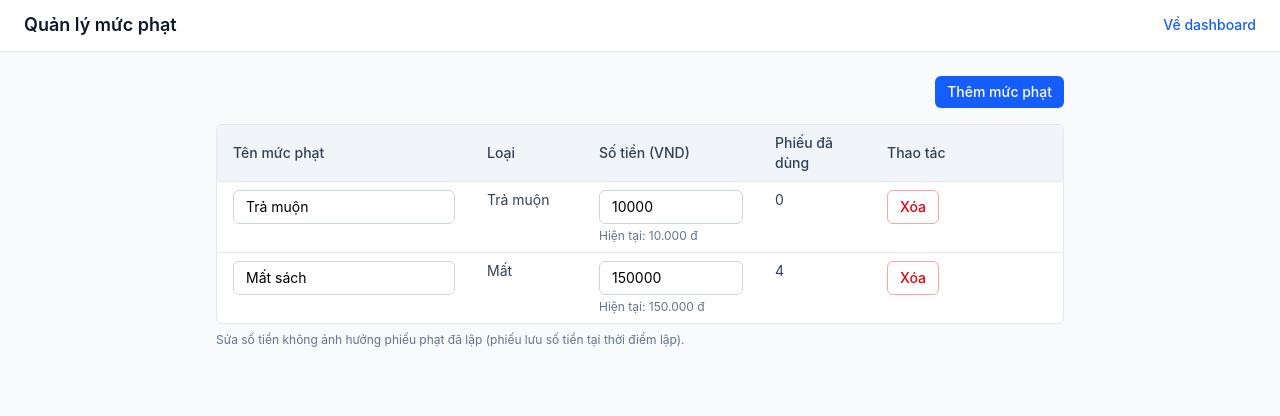
Scenario: FineTiersPage (2.5.1) › sửa trên bảng: Lưu chỉ hiện khi đổi, gửi updatedAt, cập nhật dòng
The image size is (1280, 416).
Clear the field named "Số tiền Trả muộn" at point(671, 207), box [599,190,743,224]
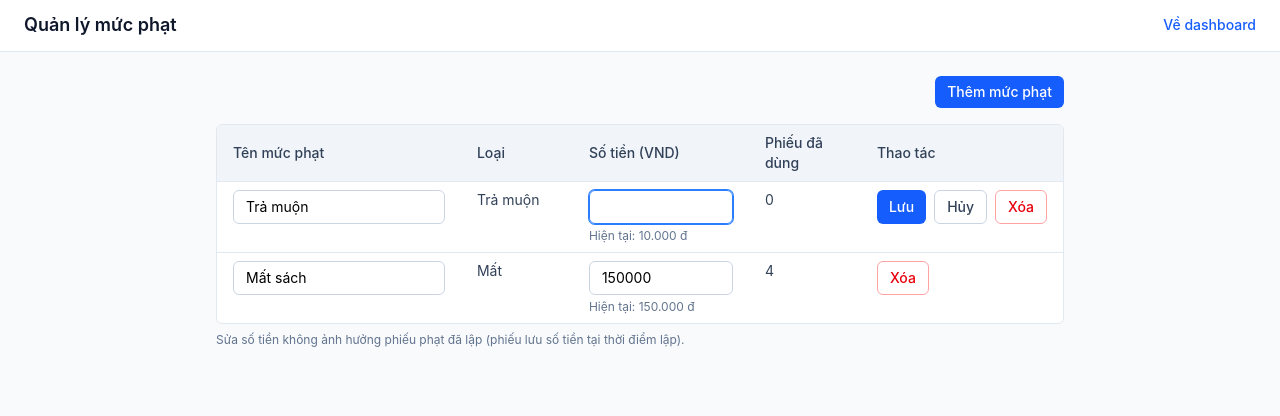
Type "20000" into the field named "Số tiền Trả muộn" at point(661, 207), box [589,190,733,224]
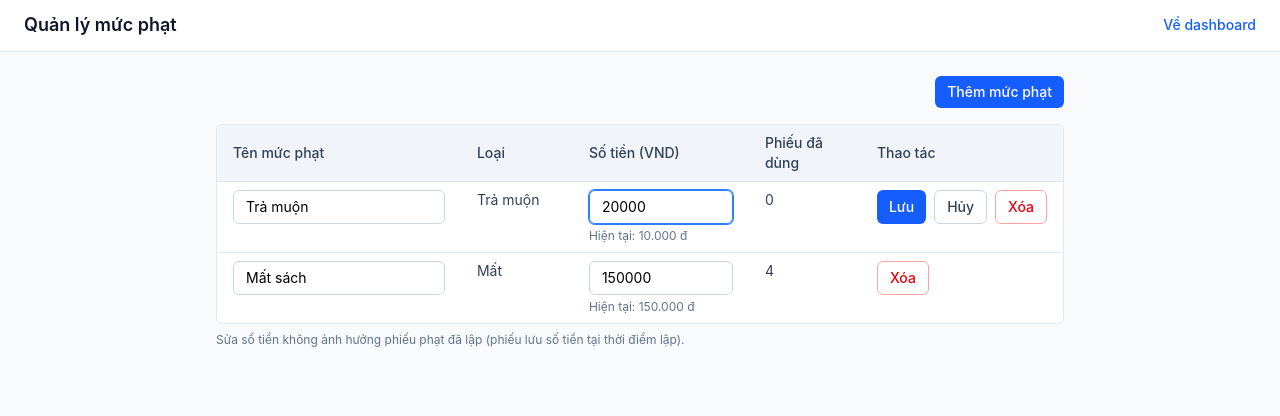
Click the button "Lưu" at point(902, 207), box [877,190,926,224]
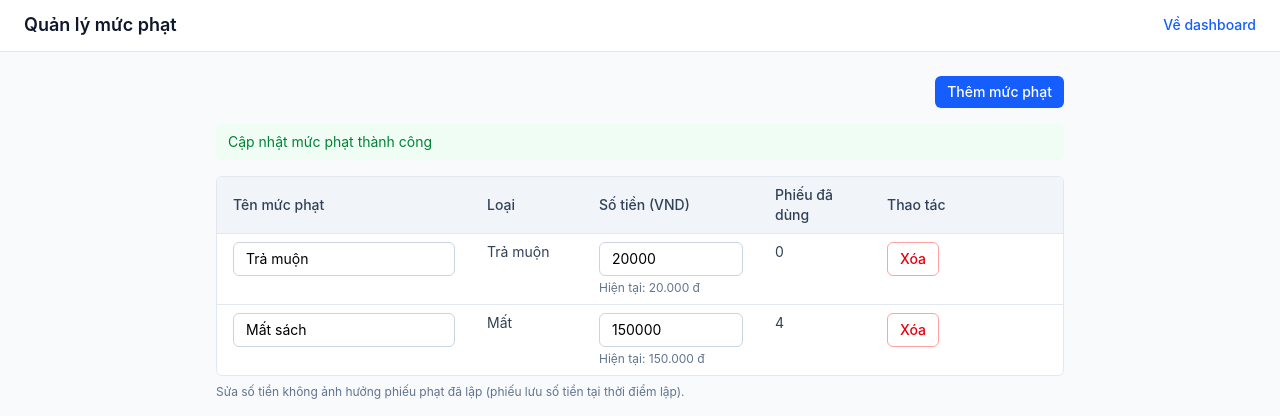
expect the field named "Số tiền Trả muộn" holds "20000": met, box [599,242,743,276]
expect the message reads "Cập nhật mức phạt thành công": met, box [228,133,432,150]
